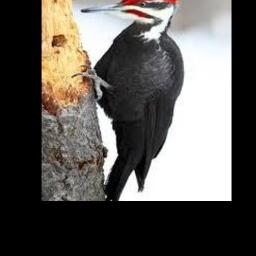Woodpecker: (72, 0, 183, 200)
